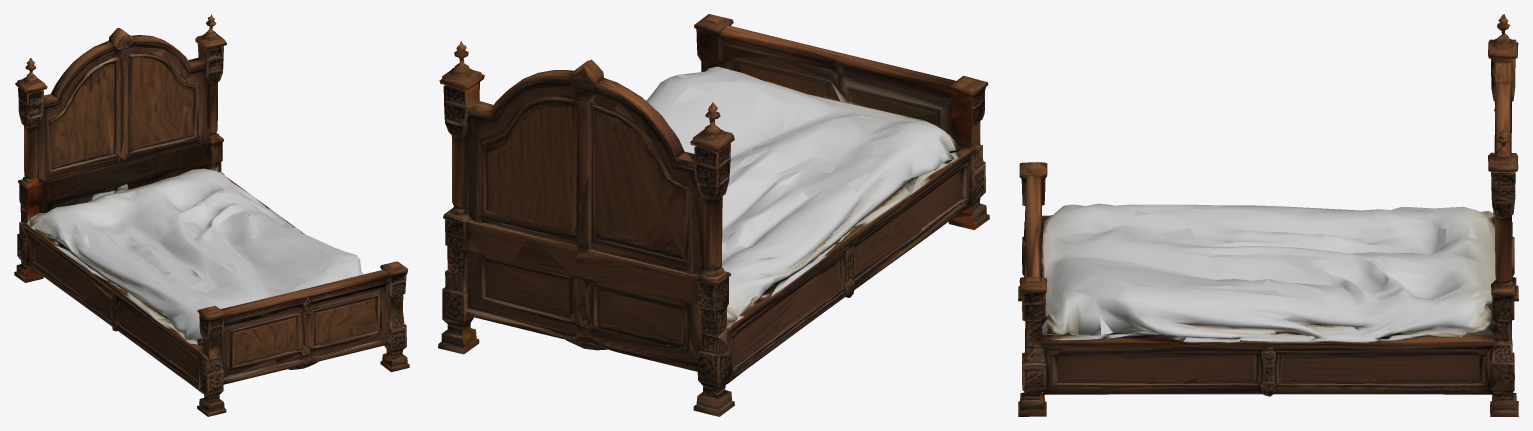
Rendered from bed.glb.
3 views of the same model, side by side, from view 1: azimuth 30°, elevation 25°; view 2: azimuth 150°, elevation 25°; view 3: azimuth 270°, elevation 25° (orthographic). The views are drawn at different scales.
Parts seen in each view (by area): view 1: tripo_node_cf47f7d4; view 2: tripo_node_cf47f7d4; view 3: tripo_node_cf47f7d4.
Part boxes in pixels (x1,y1,x2,y2): tripo_node_cf47f7d4: (14,14,409,416); tripo_node_cf47f7d4: (438,14,989,416); tripo_node_cf47f7d4: (1018,14,1518,416).
Bounding box in the file's own units: 1.92 × 2.04 × 3.19.
1 material, 1 textured.
